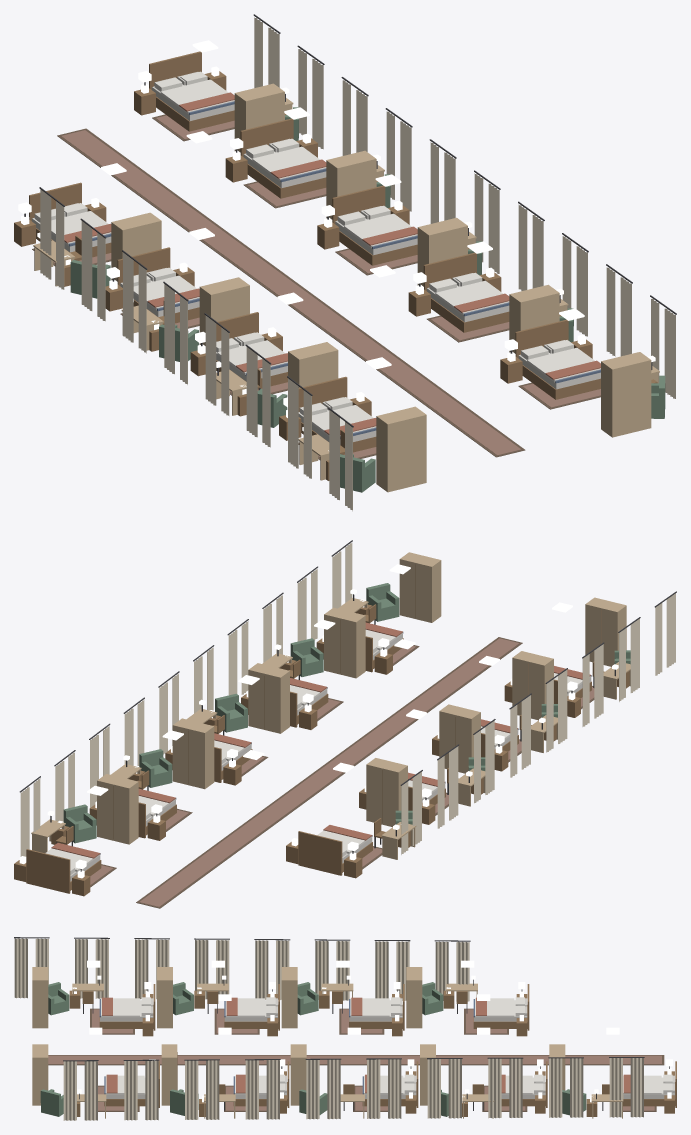
File: fine-s3.glb
3 views of the same model, one above another, from view 1: azimuth 30°, elevation 25°; view 2: azimuth 150°, elevation 25°; view 3: azimuth 270°, elevation 25° (orthographic). The views are drawn at different scales.
Visible parts, largest first — view 1: soft-s3, dresser.026, dresser.021, bed-frame.023, bed-frame.024, bed-frame.025, bed-frame.026, bed-frame.022, dresser.024, dresser.022, dresser.025, dresser.023 (+8 smaller); view 2: soft-s3, dresser.023, dresser.026, dresser.025, dresser.022, dresser.024, dresser.018, dresser.021, dresser.020, dresser.019, bed-frame.022, bed-frame.018 (+9 smaller); view 3: soft-s3, dresser.018, dresser.019, dresser.021, dresser.020, dresser.024, dresser.026, dresser.025, bed-frame.021, bed-frame.018, bed-frame.020, bed-frame.019 (+18 smaller).
Part boxes in pixels (left/top/right/bottom): soft-s3: left=18, top=14, right=676, bottom=511; dresser.026: left=601, top=352, right=651, bottom=437; dresser.021: left=376, top=406, right=426, bottom=492; bed-frame.023: left=240, top=118, right=326, bottom=198; bed-frame.024: left=332, top=185, right=417, bottom=265; bed-frame.025: left=423, top=252, right=509, bottom=332; bed-frame.026: left=515, top=319, right=600, bottom=399; bed-frame.022: left=149, top=51, right=234, bottom=131; dresser.024: left=417, top=217, right=467, bottom=286; dresser.022: left=234, top=83, right=284, bottom=151; dresser.025: left=509, top=284, right=559, bottom=353; dresser.023: left=326, top=150, right=376, bottom=219; soft-s3: left=19, top=540, right=676, bottom=908; dresser.023: left=172, top=718, right=214, bottom=789; dresser.026: left=399, top=552, right=441, bottom=622; dresser.025: left=324, top=607, right=365, bottom=678; dresser.022: left=97, top=774, right=138, bottom=844; dresser.024: left=248, top=663, right=289, bottom=733; dresser.018: left=366, top=758, right=407, bottom=826; dresser.021: left=585, top=597, right=626, bottom=666; dresser.020: left=512, top=651, right=553, bottom=720; dresser.019: left=439, top=704, right=480, bottom=773; bed-frame.022: left=26, top=849, right=101, bottom=893; bed-frame.018: left=298, top=831, right=372, bottom=875; soft-s3: left=14, top=937, right=673, bottom=1120; dresser.018: left=406, top=967, right=422, bottom=1028; dresser.019: left=281, top=967, right=297, bottom=1028; dresser.021: left=32, top=967, right=48, bottom=1028; dresser.020: left=157, top=967, right=172, bottom=1028; dresser.024: left=290, top=1044, right=306, bottom=1105; dresser.026: left=32, top=1044, right=48, bottom=1105; dresser.025: left=161, top=1044, right=177, bottom=1105; bed-frame.021: left=99, top=984, right=155, bottom=1030; bed-frame.018: left=473, top=984, right=529, bottom=1030; bed-frame.020: left=224, top=984, right=279, bottom=1030; bed-frame.019: left=349, top=984, right=404, bottom=1030.
Size of the model in its own units: 11.03 by 2.64 by 25.02.
